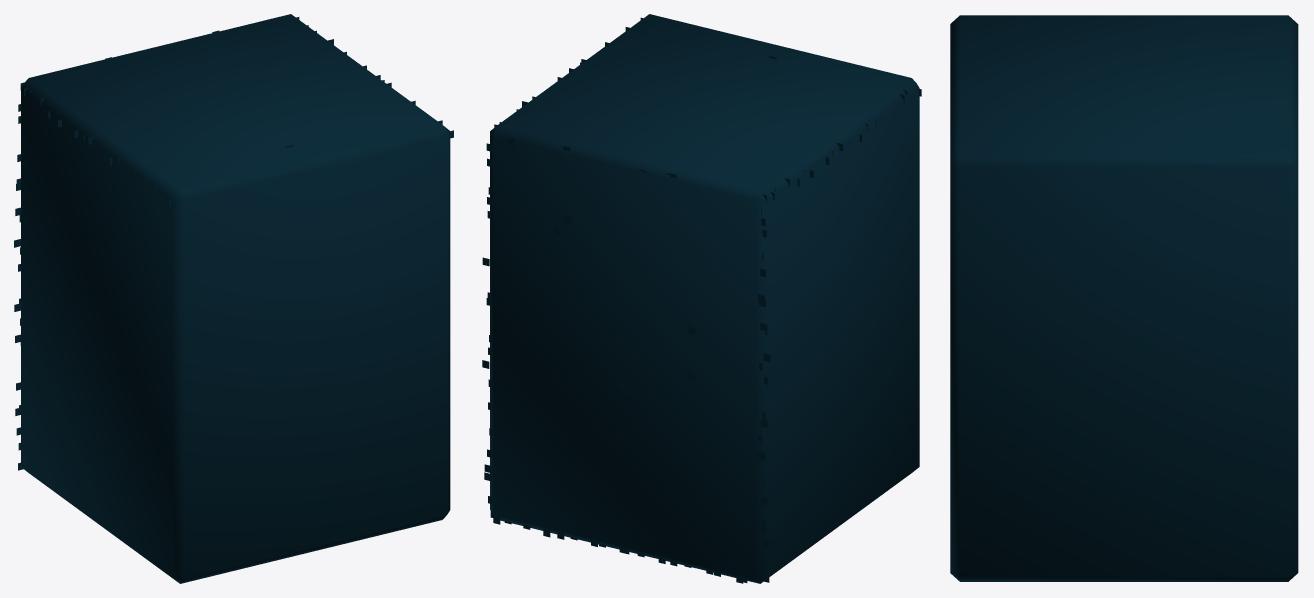
Rendered from vault_closed.glb.
The picture shows the model from 3 angles, left to right: view 1: azimuth 30°, elevation 25°; view 2: azimuth 150°, elevation 25°; view 3: azimuth 270°, elevation 25°; orthographic projection. The views are drawn at different scales.
Visible parts, largest first — view 1: vault_glass_shell1, vault_pts; view 2: vault_glass_shell1, vault_pts; view 3: vault_glass_shell1.
Boxes of the visible parts, x1=… form: vault_glass_shell1: x1=21, y1=14, x2=450, y2=583; vault_pts: x1=14, y1=17, x2=453, y2=470; vault_glass_shell1: x1=490, y1=14, x2=919, y2=583; vault_pts: x1=482, y1=17, x2=921, y2=583; vault_glass_shell1: x1=950, y1=15, x2=1298, y2=581.
Bounding box in the file's own units: 0.7388 × 0.9786 × 0.7207.
